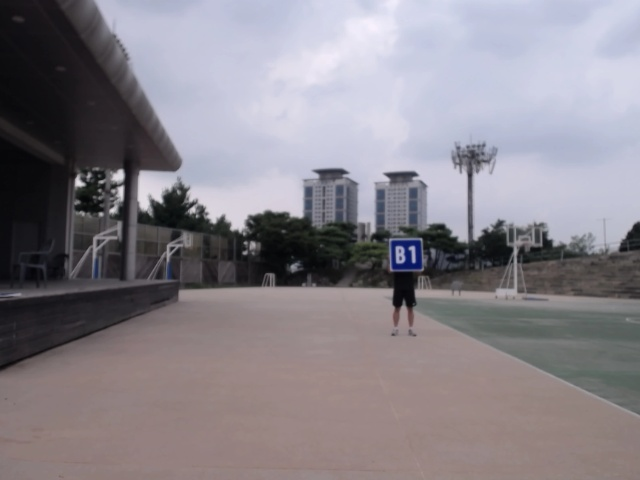delivery_b1: (389, 238, 424, 271)
